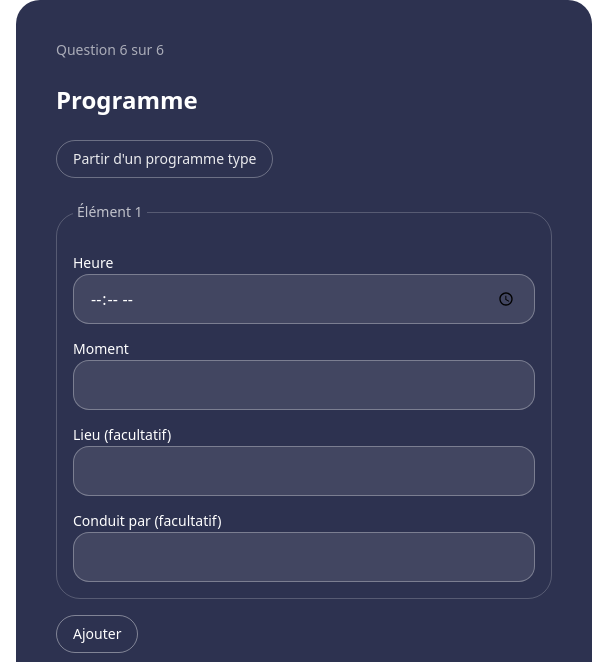
Test: QuestionScreen : programme type › remplit la liste au clic, puis retire le bouton
The width and height of the screenshot is (609, 662).
Step 1. Click the button "Partir d'un programme type" → coordinates (165, 159), box [56,140,274,178]
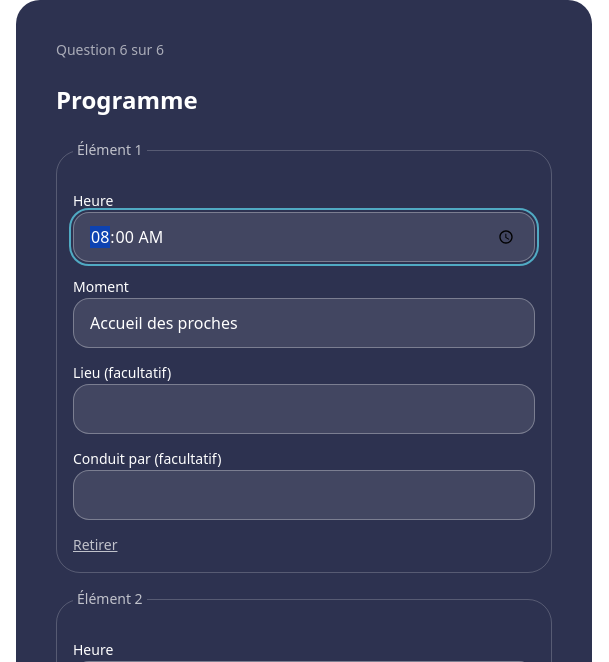
Expected: the button "Partir d'un programme type" is gone
